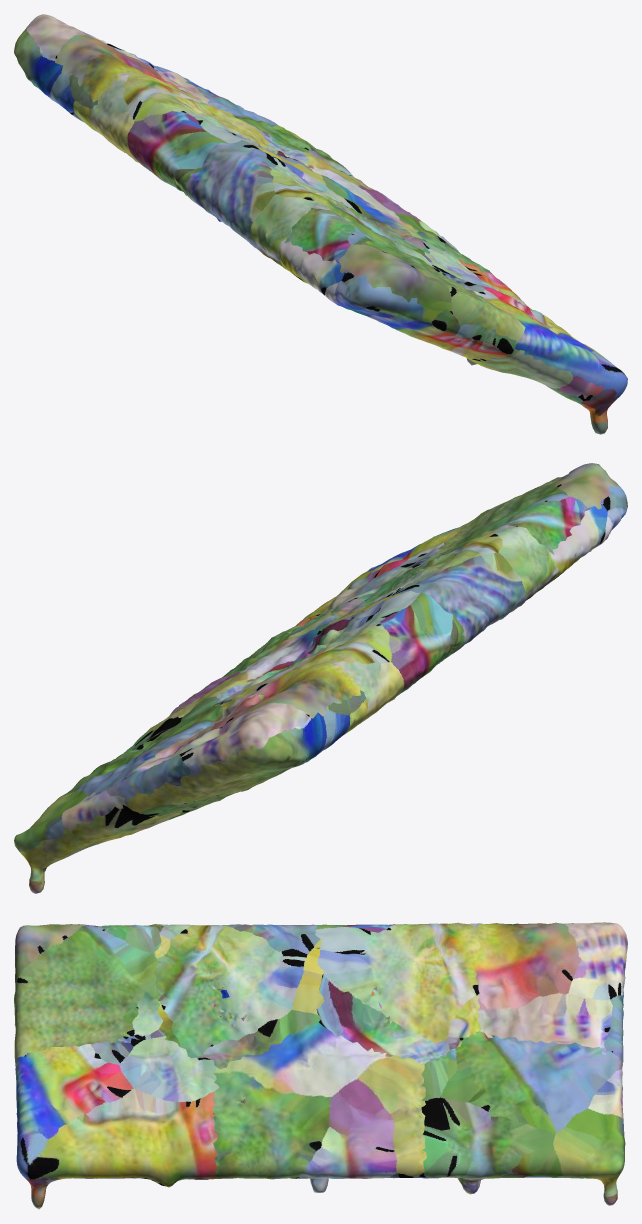
The model's file is Solar_Panels_0822025437_preview.obj.
The picture shows the model from 3 angles, top to bottom: view 1: azimuth 30°, elevation 25°; view 2: azimuth 150°, elevation 25°; view 3: azimuth 270°, elevation 25°; orthographic projection. The views are drawn at different scales.
Visible parts, largest first — view 1: Mesh1; view 2: Mesh1; view 3: Mesh1.
Part boxes in pixels (x1,y1,x2,y2): Mesh1: (14, 14, 627, 434); Mesh1: (14, 463, 627, 893); Mesh1: (14, 922, 627, 1209).
Size of the model in its own units: 0.5295 by 0.4174 by 1.2.
